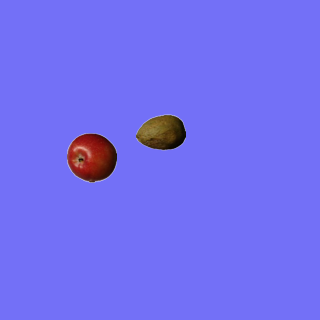Apple Braeburn: (66, 132, 116, 182)
Papaya: (135, 107, 185, 157)
